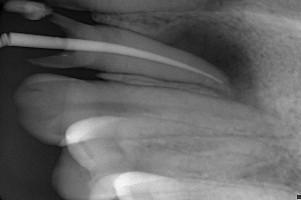Furcation Involvement: (158, 21, 259, 98)
